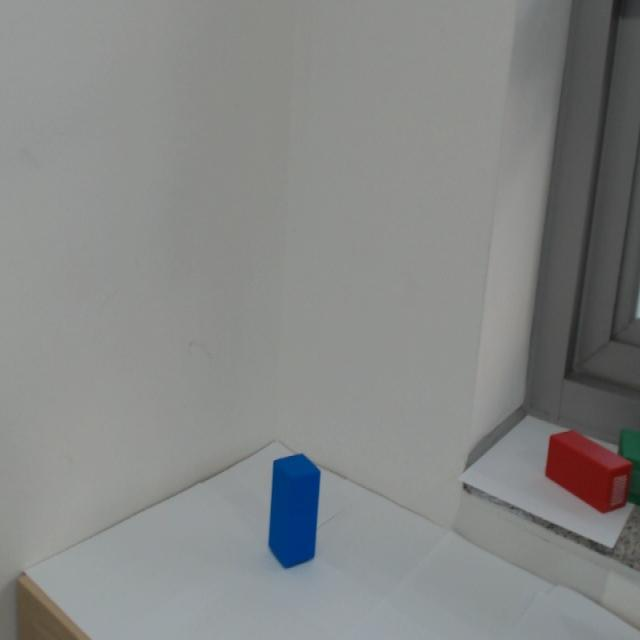cube: (271, 413, 327, 588)
